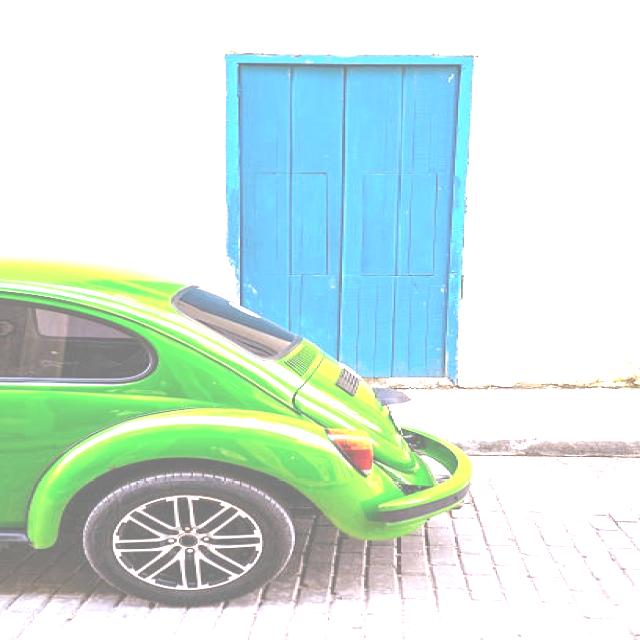car: (2, 267, 474, 577)
